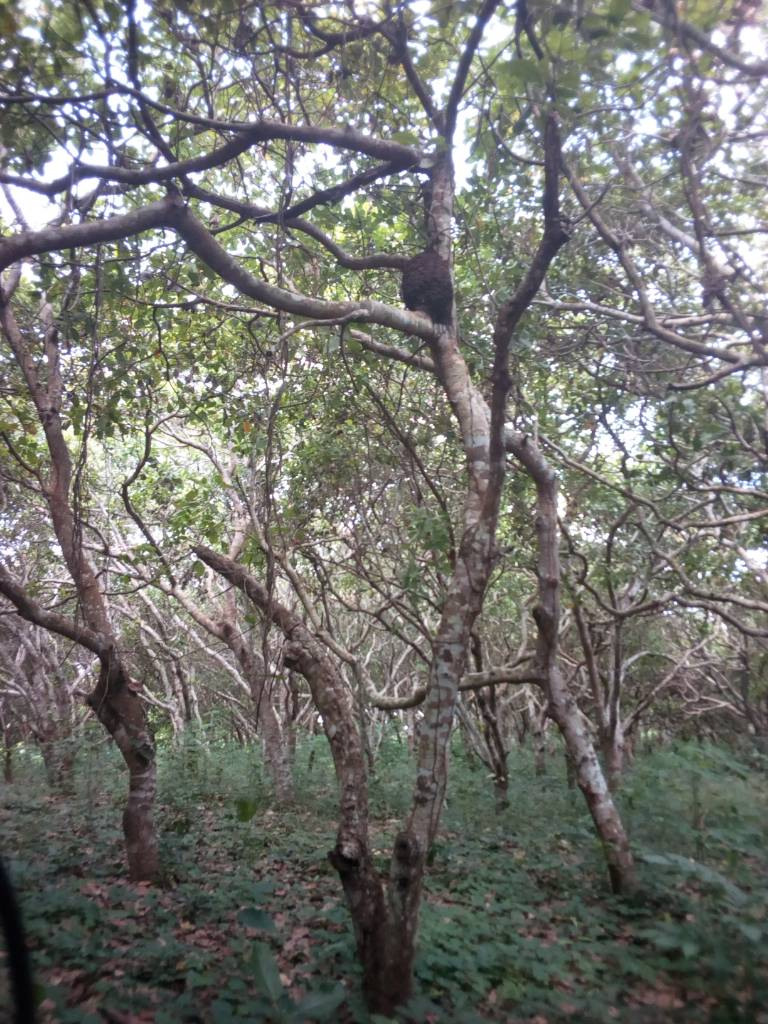Virose: (376, 234, 498, 355)
